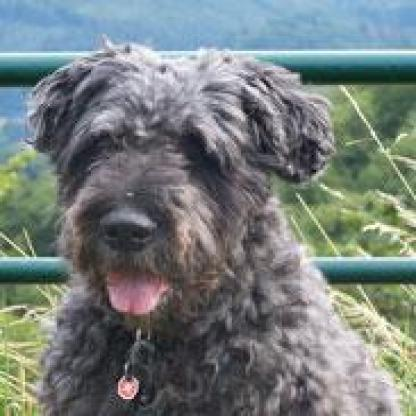Bouvier_des_Flandres: (25, 42, 402, 412)
